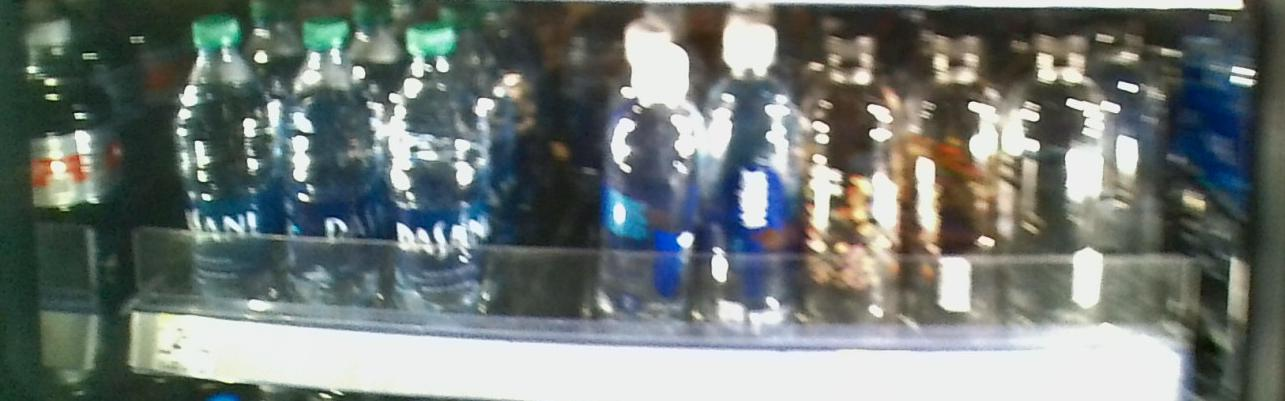bottle: (387, 21, 496, 332), (597, 31, 700, 341), (710, 25, 805, 352), (1016, 14, 1109, 336), (280, 14, 380, 310), (172, 19, 270, 315), (911, 28, 1003, 338), (813, 31, 900, 338)
